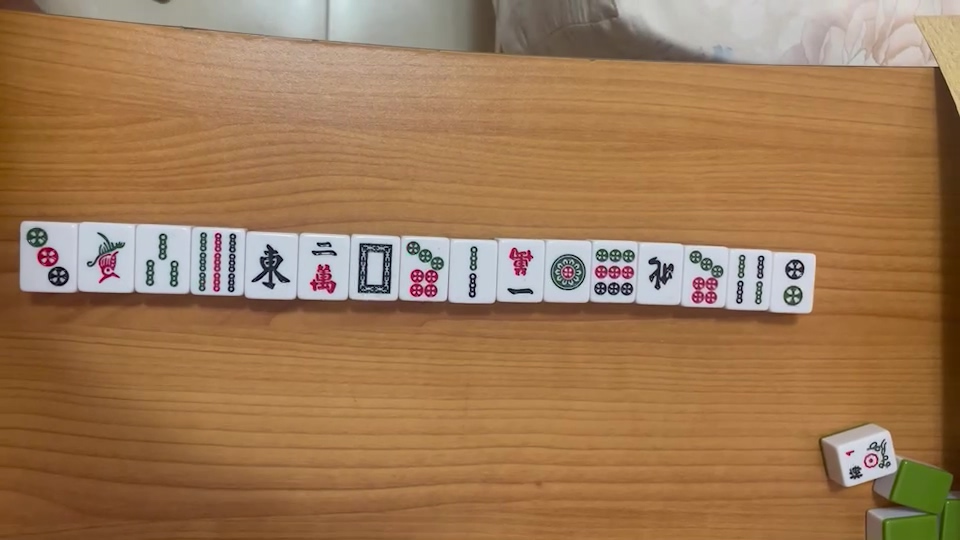b-1: (82, 228, 129, 285)
b-2: (459, 241, 485, 300), (779, 260, 807, 305)
b-3: (140, 231, 181, 290)
b-4: (732, 252, 765, 305)
b-9: (197, 229, 239, 294)
c-1: (504, 245, 540, 297)
c-2: (307, 238, 340, 293)
d-1: (548, 251, 587, 292)
d-3: (23, 227, 70, 287)
d-7: (404, 240, 446, 298), (687, 248, 724, 304)
d-9: (592, 246, 635, 295)
honors-east: (251, 241, 292, 293)
honors-north: (647, 255, 676, 294)
honors-white: (355, 240, 394, 295)
